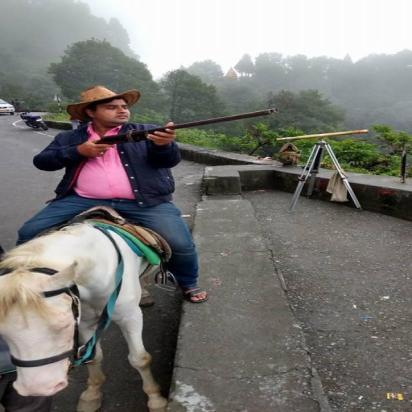Gun: (62, 107, 280, 158)
